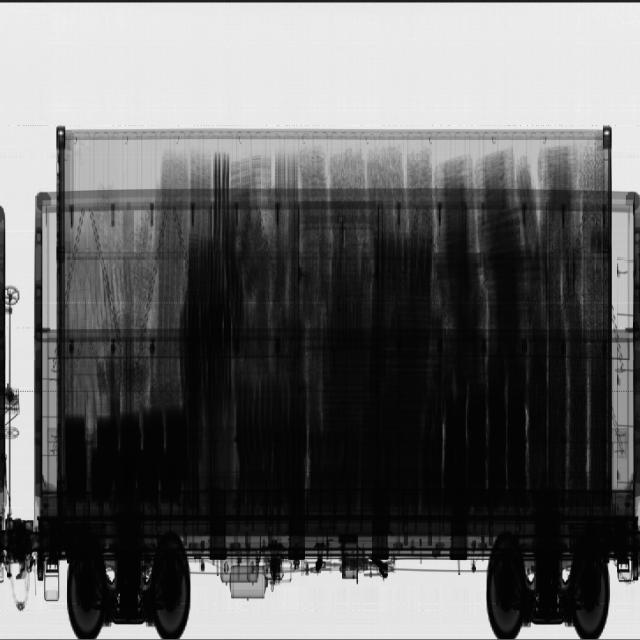shoes: (296, 149, 434, 228)
